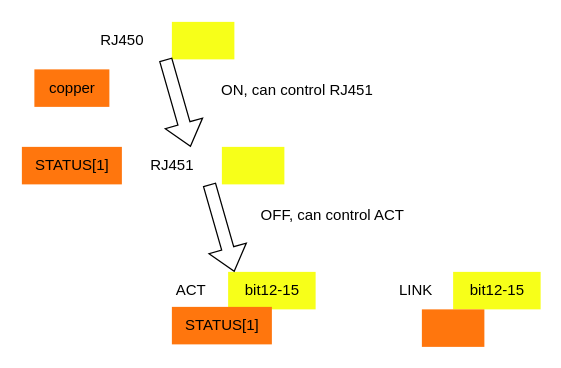
Image size: 561x368. Some labels were removed from this diagram. The centre of each missing label's shape, as x and y in pixels:
bit0-3: point (202, 40)
bit4-7: point (252, 165)
LOS: point (452, 327)
